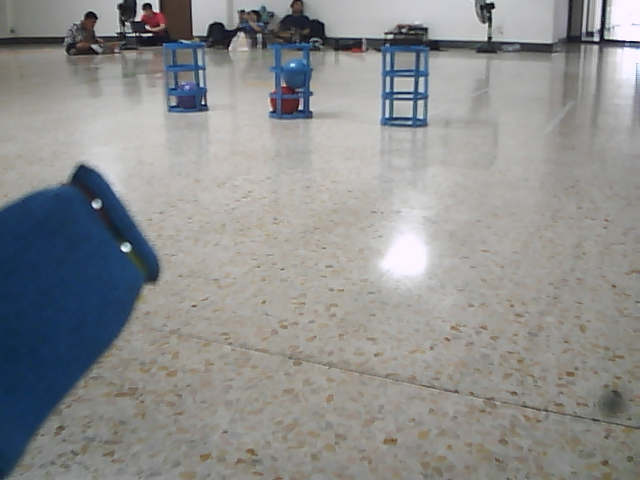Blue ball: (281, 59, 310, 89)
Cyro: (377, 42, 432, 132), (262, 41, 316, 123), (160, 41, 212, 115)
Purple ball: (174, 80, 202, 109)
Red ball: (269, 86, 300, 117)
